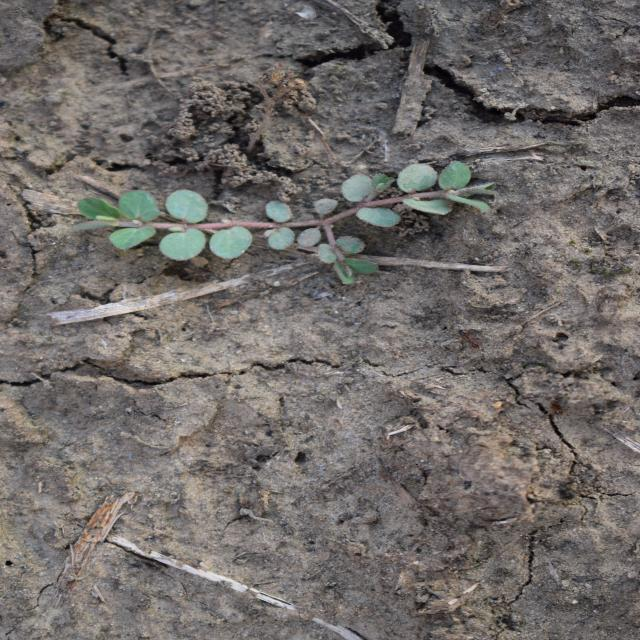SpottedSpurge: (74, 160, 500, 287)
